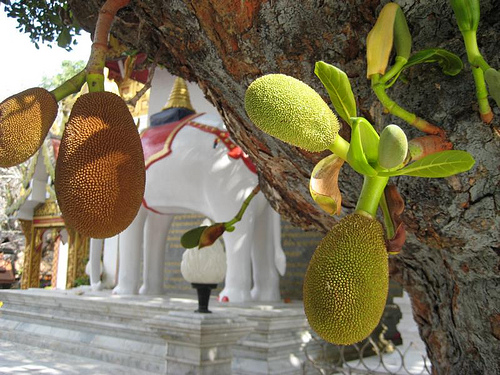jackfruit: (52, 88, 147, 241), (301, 210, 391, 348), (244, 72, 340, 153), (0, 86, 59, 169), (375, 122, 409, 172)
